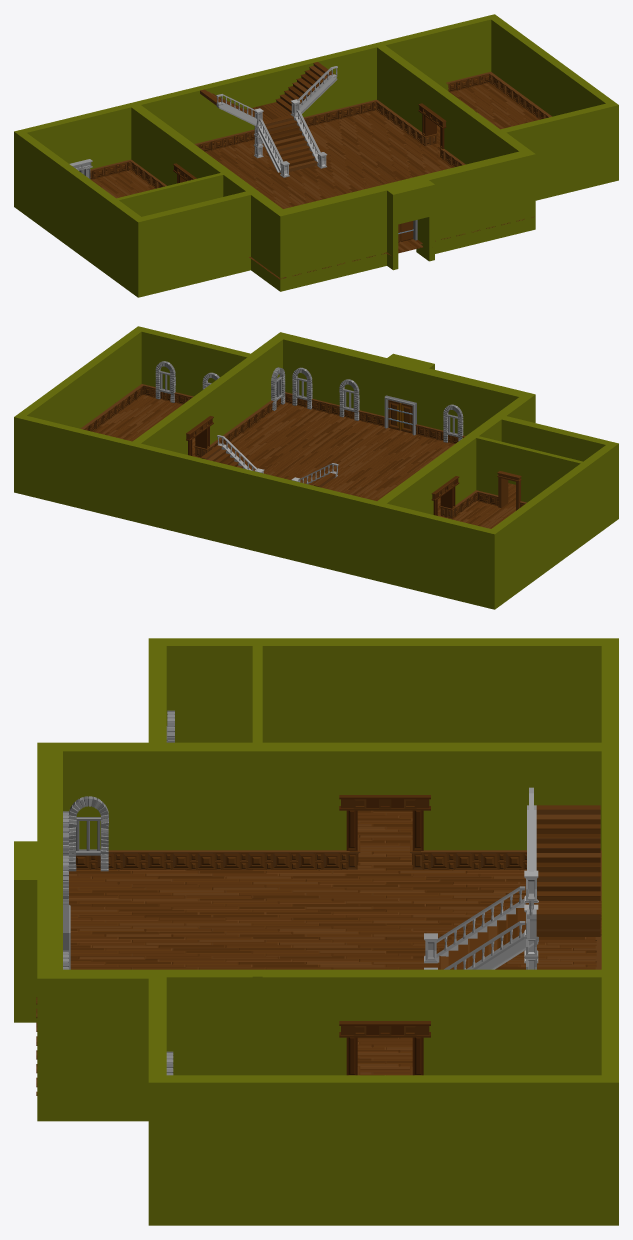
Rendered from castle_town_interior_floor 1.fbx.
3 renders of one model, top to bottom at view 1: azimuth 30°, elevation 25°; view 2: azimuth 150°, elevation 25°; view 3: azimuth 270°, elevation 25°, orthographic. The views are drawn at different scales.
Visible parts, largest first — view 1: walls, floor 1, stair.005; view 2: walls, floor 1, CASTLE OBJECT.002, stair.005; view 3: walls, floor 1, stair.005, CASTLE OBJECT.002.
Boxes of the visible parts, box(x1,y1,x2,y2) form: walls: box(14, 14, 618, 297); floor 1: box(91, 82, 539, 279); stair.005: box(200, 62, 337, 177); walls: box(14, 326, 618, 609); floor 1: box(93, 394, 515, 528); CASTLE OBJECT.002: box(155, 361, 463, 442); stair.005: box(200, 435, 338, 487); walls: box(14, 638, 618, 1225); floor 1: box(36, 810, 596, 1095); stair.005: box(424, 787, 601, 969); CASTLE OBJECT.002: box(63, 710, 174, 1075).
Size of the model in its own units: 18594 by 5428 by 32309.
